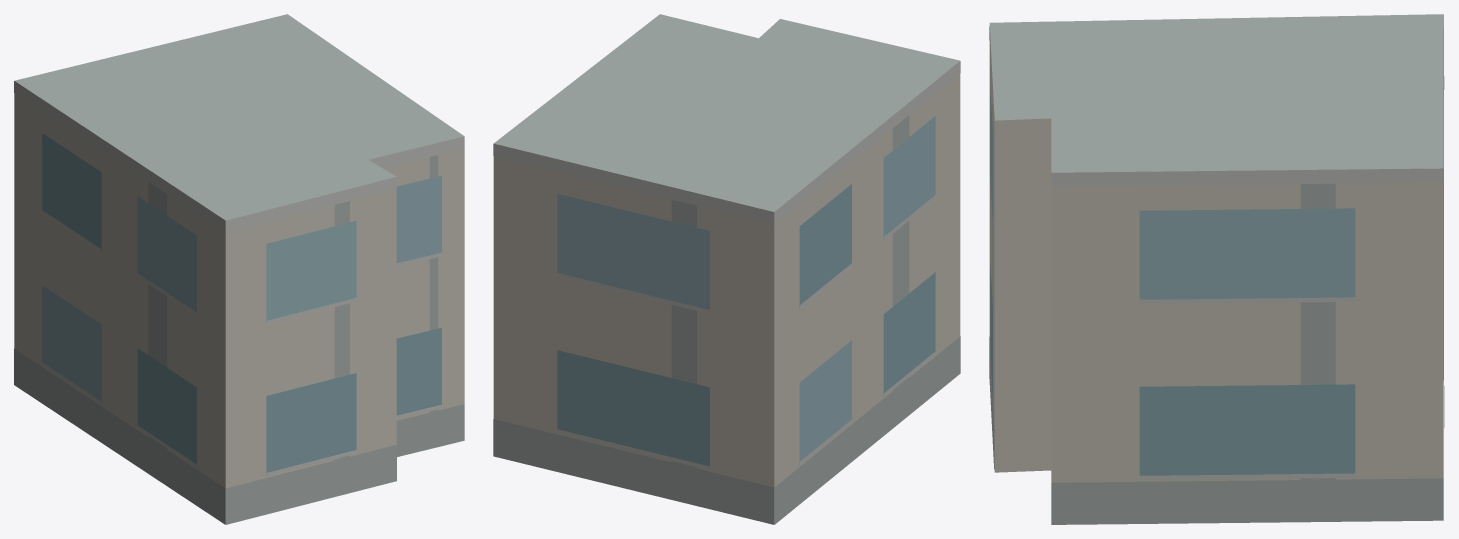
The model's file is survey-upis-32603362.glb.
3 renders of one model, left to right at view 1: azimuth 30°, elevation 25°; view 2: azimuth 150°, elevation 25°; view 3: azimuth 270°, elevation 25°, orthographic. The views are drawn at different scales.
Visible parts, largest first — view 1: survey-upis-32603362.tmp; view 2: survey-upis-32603362.tmp; view 3: survey-upis-32603362.tmp.
Boxes of the visible parts, x1,y1,x2,y2 form: survey-upis-32603362.tmp: (14,14,464,524); survey-upis-32603362.tmp: (493,14,960,524); survey-upis-32603362.tmp: (989,14,1444,524).
Size of the model in its own units: 5.9 by 6.1 by 7.15.
